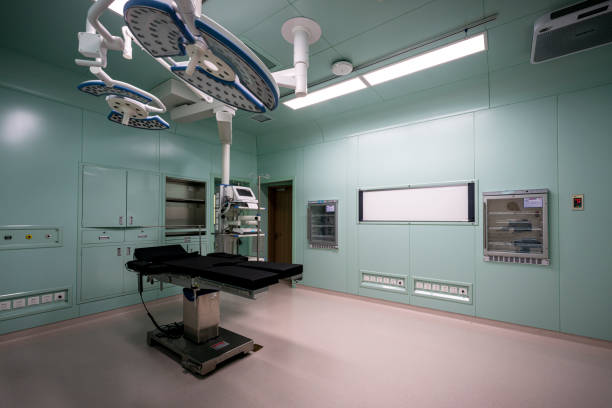bedside_monitor: (232, 185, 260, 201)
cabinet: (483, 195, 550, 256), (299, 196, 340, 255), (163, 177, 205, 234)
handle: (482, 202, 487, 249), (307, 204, 311, 251), (116, 215, 124, 225), (137, 234, 149, 239), (99, 235, 111, 240), (131, 215, 135, 225), (128, 246, 131, 257), (118, 247, 121, 258)
operating_bed: (123, 245, 305, 373)
surgical_light: (123, 1, 281, 114), (75, 77, 172, 131)
